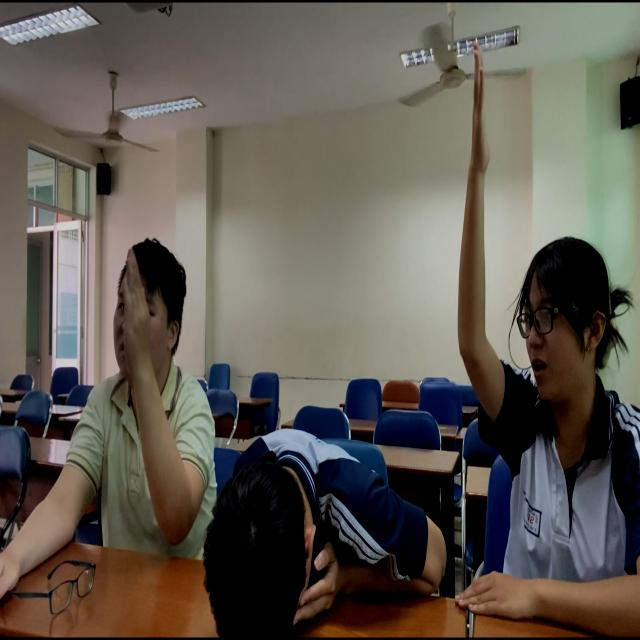raise_hand: (439, 35, 633, 640), (45, 238, 211, 571)
sleep: (195, 421, 439, 640)
